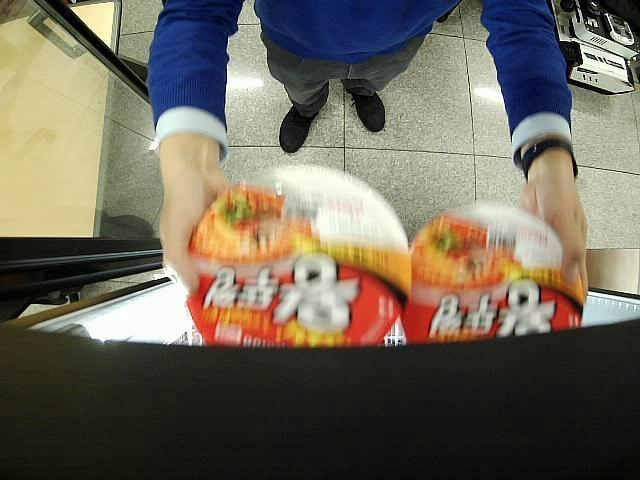10_wangTtukkeong: (186, 162, 412, 347), (401, 203, 584, 345)
